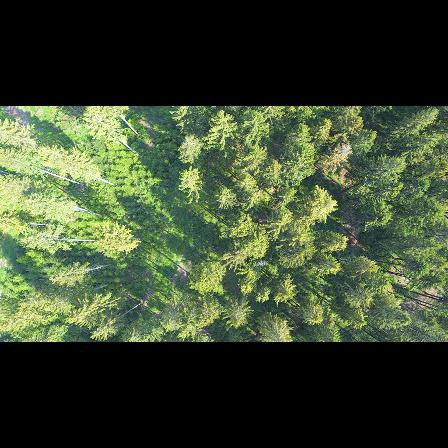Sick: (334, 140, 355, 161)
